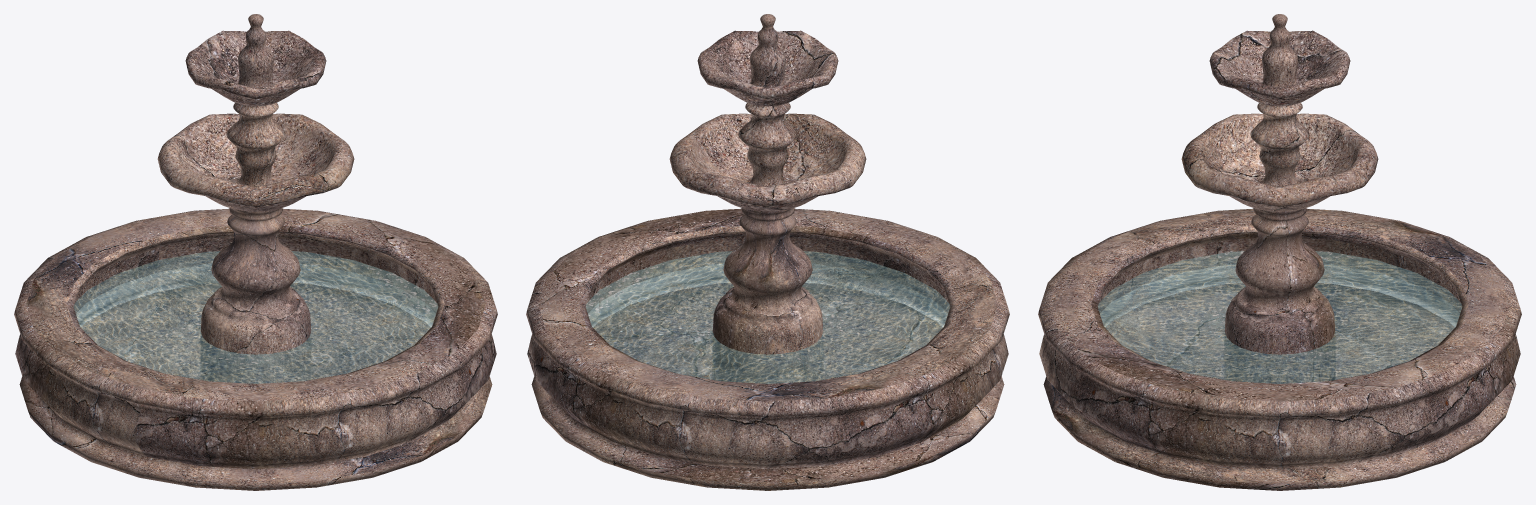
File: fountain.fbx
The picture shows the model from 3 angles, left to right: view 1: azimuth 30°, elevation 25°; view 2: azimuth 150°, elevation 25°; view 3: azimuth 270°, elevation 25°; orthographic projection.
Visible parts, largest first — view 1: Mesh; view 2: Mesh; view 3: Mesh.
Boxes of the visible parts, left/top/right/bottom form: Mesh: left=14, top=14, right=497, bottom=490; Mesh: left=526, top=14, right=1009, bottom=490; Mesh: left=1038, top=14, right=1521, bottom=490.
Bounding box in the file's own units: 7.58 × 6.72 × 7.58.
